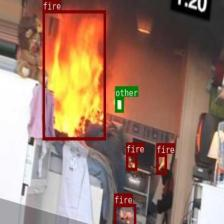fire: (42, 9, 106, 140), (113, 203, 134, 224), (156, 153, 167, 174), (126, 153, 136, 170)
